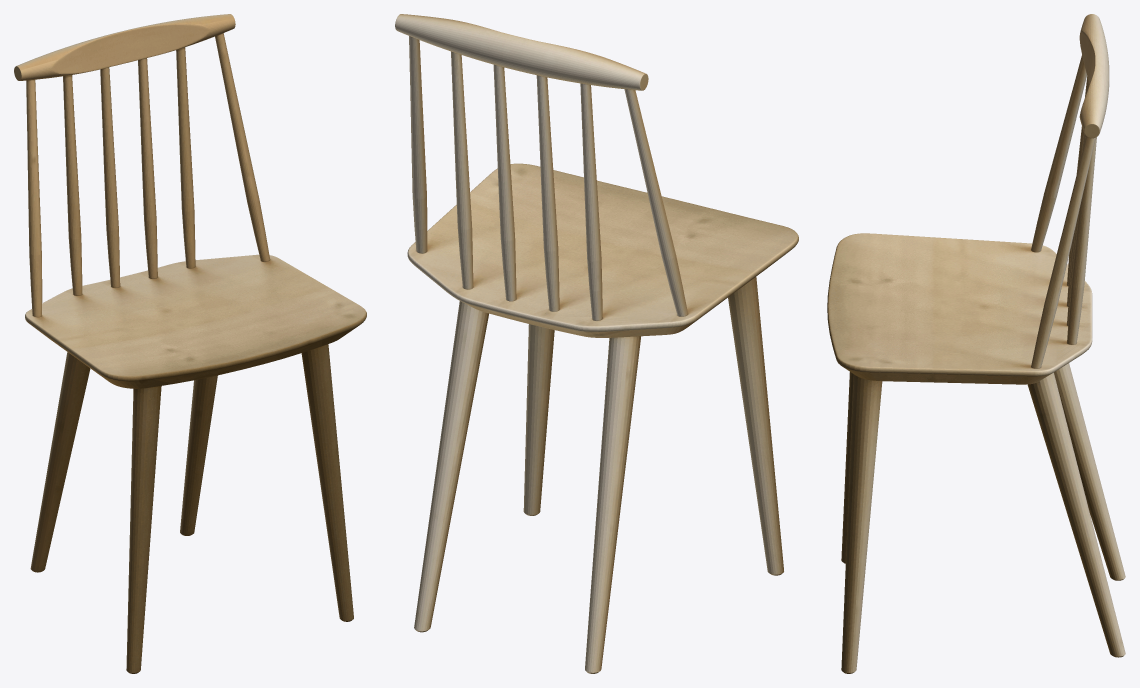
Rendered from chair.fbx.
3 views of the same model, side by side, from view 1: azimuth 30°, elevation 25°; view 2: azimuth 150°, elevation 25°; view 3: azimuth 270°, elevation 25° (orthographic). The views are drawn at different scales.
Visible parts, largest first — view 1: 04_KITCHEN_CHAIR_3_Pine Highgloss [KITCHEN_CHAIR_3]_0; view 2: 04_KITCHEN_CHAIR_3_Pine Highgloss [KITCHEN_CHAIR_3]_0; view 3: 04_KITCHEN_CHAIR_3_Pine Highgloss [KITCHEN_CHAIR_3]_0.
Boxes of the visible parts, left/top/right/bottom form: 04_KITCHEN_CHAIR_3_Pine Highgloss [KITCHEN_CHAIR_3]_0: left=14, top=14, right=366, bottom=673; 04_KITCHEN_CHAIR_3_Pine Highgloss [KITCHEN_CHAIR_3]_0: left=395, top=14, right=798, bottom=673; 04_KITCHEN_CHAIR_3_Pine Highgloss [KITCHEN_CHAIR_3]_0: left=827, top=14, right=1125, bottom=673.
Size of the model in its own units: 1.04 by 2 by 0.9712.
